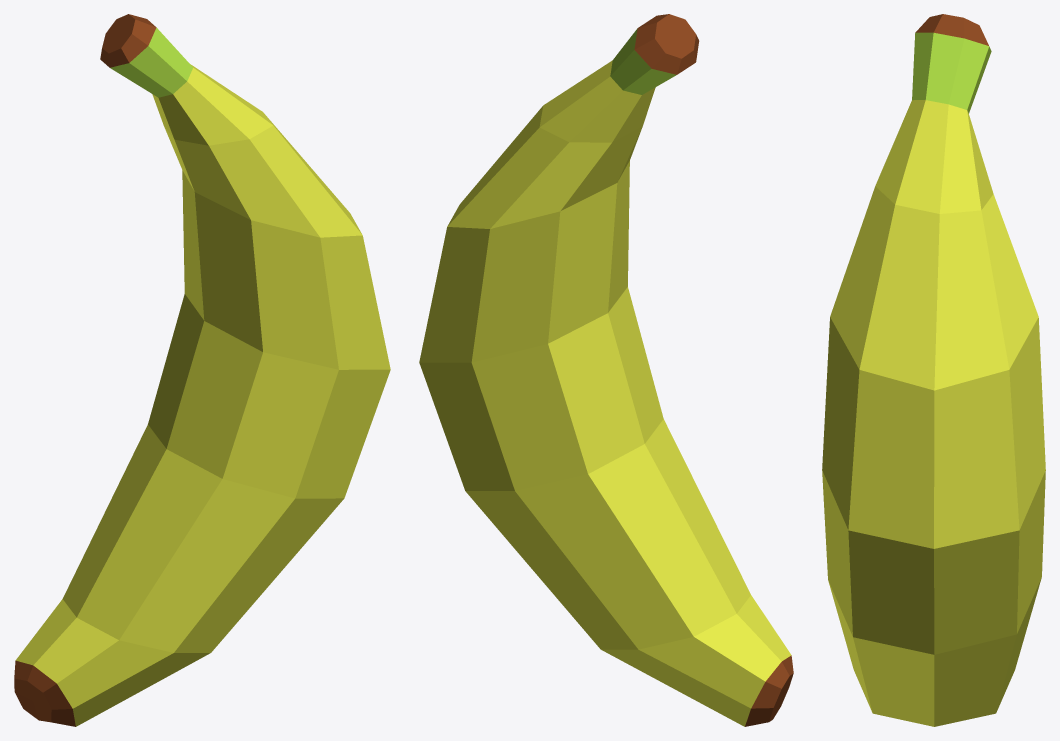
3 renders of one model, left to right at view 1: azimuth 30°, elevation 25°; view 2: azimuth 150°, elevation 25°; view 3: azimuth 270°, elevation 25°, orthographic. The views are drawn at different scales.
Parts seen in each view (by area): view 1: banana_01; view 2: banana_01; view 3: banana_01.
Part boxes in pixels (bbox=[...]): banana_01: bbox=[14, 14, 390, 726]; banana_01: bbox=[419, 14, 793, 726]; banana_01: bbox=[822, 14, 1045, 726].
Size of the model in its own units: 9.78 by 18.31 by 5.
